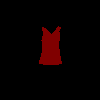canottiera: (38, 26, 62, 65)
